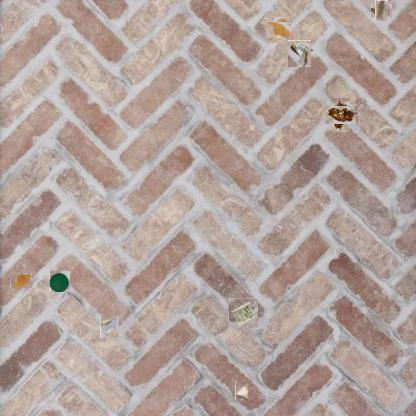dirty: (228, 298, 258, 328), (328, 102, 354, 128), (287, 41, 312, 67), (49, 270, 70, 292), (100, 316, 119, 338), (235, 380, 250, 400), (373, 2, 390, 19)
liquid: (267, 20, 289, 40), (10, 272, 32, 288)
